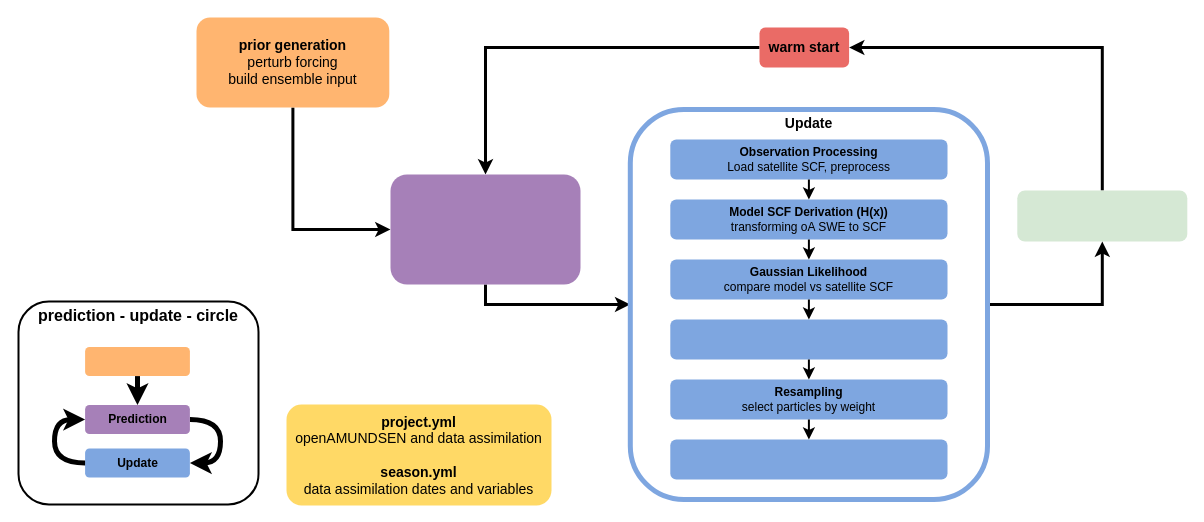
This 1204x522 diagram has some shape labels left out. The centre of each missing label's shape, as x and y in pixels:
"Forecast / Propagation run openAMUNDSEN for each ensemble member" belongs at (x=485, y=229).
"Importance Weighting normalize likelihoods, compute weights" belongs at (x=808, y=339).
"Initialization" belongs at (x=137, y=361).
"posterior > new prior" belongs at (x=1102, y=215).
"Rejuvenation re-perturb forcing parameters to maintain diversity" belongs at (x=808, y=459).
